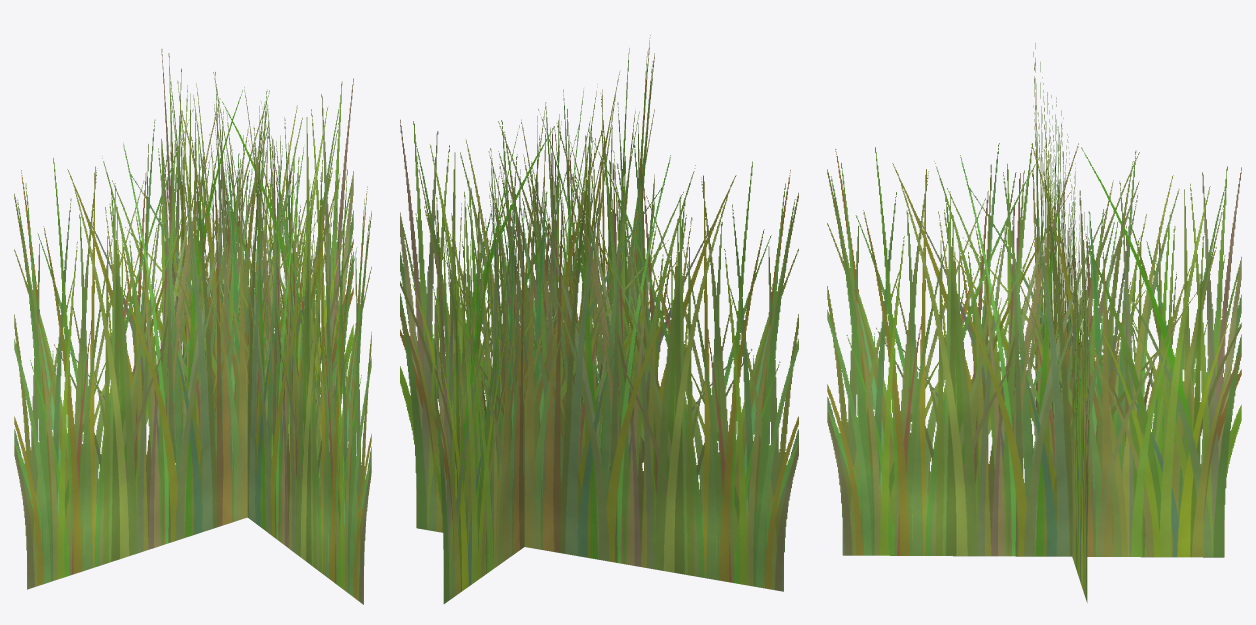
The model's file is Grass_Common_Tall_LOD2.gltf.
3 renders of one model, left to right at view 1: azimuth 30°, elevation 25°; view 2: azimuth 150°, elevation 25°; view 3: azimuth 270°, elevation 25°, orthographic. The views are drawn at different scales.
Visible parts, largest first — view 1: Grass_Common_Tall_LOD2; view 2: Grass_Common_Tall_LOD2; view 3: Grass_Common_Tall_LOD2.
Boxes of the visible parts, x1,y1,x2,y2 form: Grass_Common_Tall_LOD2: (14, 49, 371, 604); Grass_Common_Tall_LOD2: (400, 35, 798, 603); Grass_Common_Tall_LOD2: (827, 43, 1241, 602).
Bounding box in the file's own units: 0.7927 × 0.9021 × 0.7999.
1 material, 1 textured.
